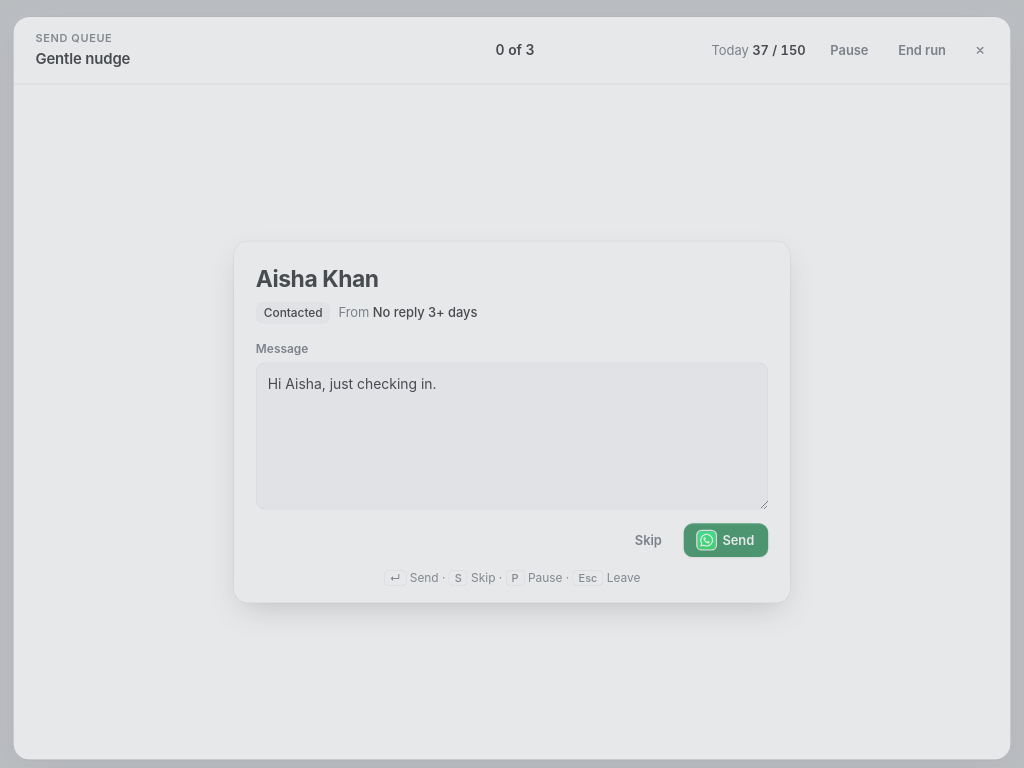
Test: QueueRun (4C Task 4) › final review #1: a lead another tab has open — this tab moves on, and never asks Sent? for it
The width and height of the screenshot is (1024, 768).
Expected: the text box showing "Hi Aisha, just checking in." is shown, [256, 363, 768, 510]
Click the button "Send" at (726, 540), box [684, 524, 768, 557]
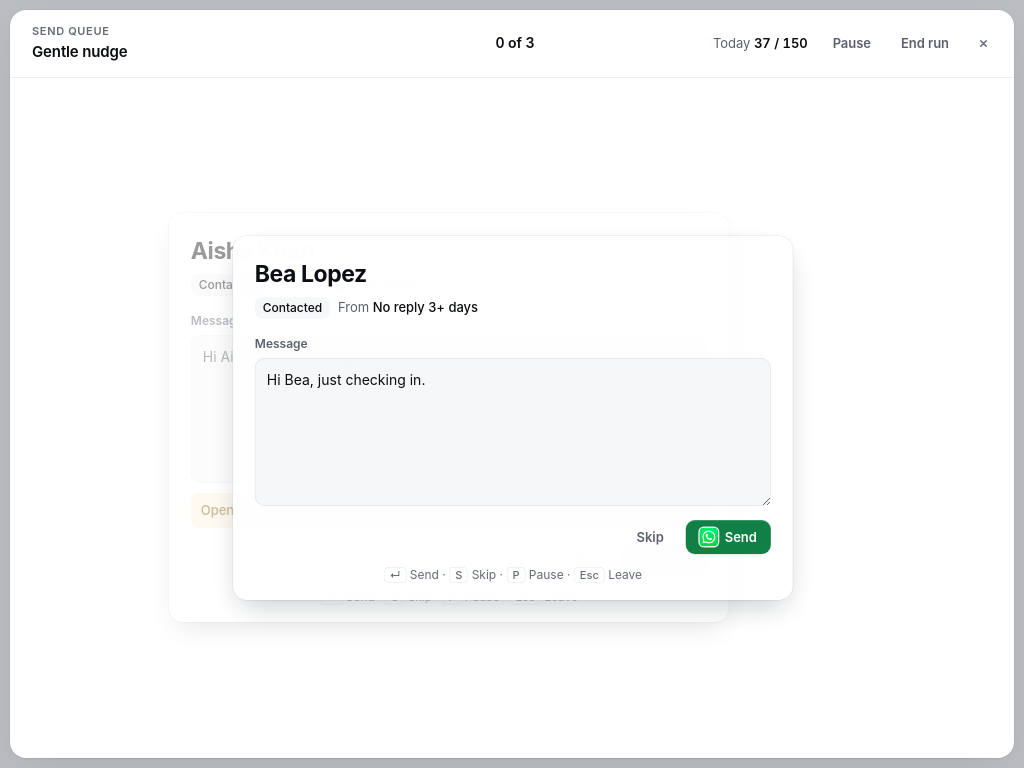
Expected: the heading "Bea Lopez" is shown, [255, 260, 367, 288]
